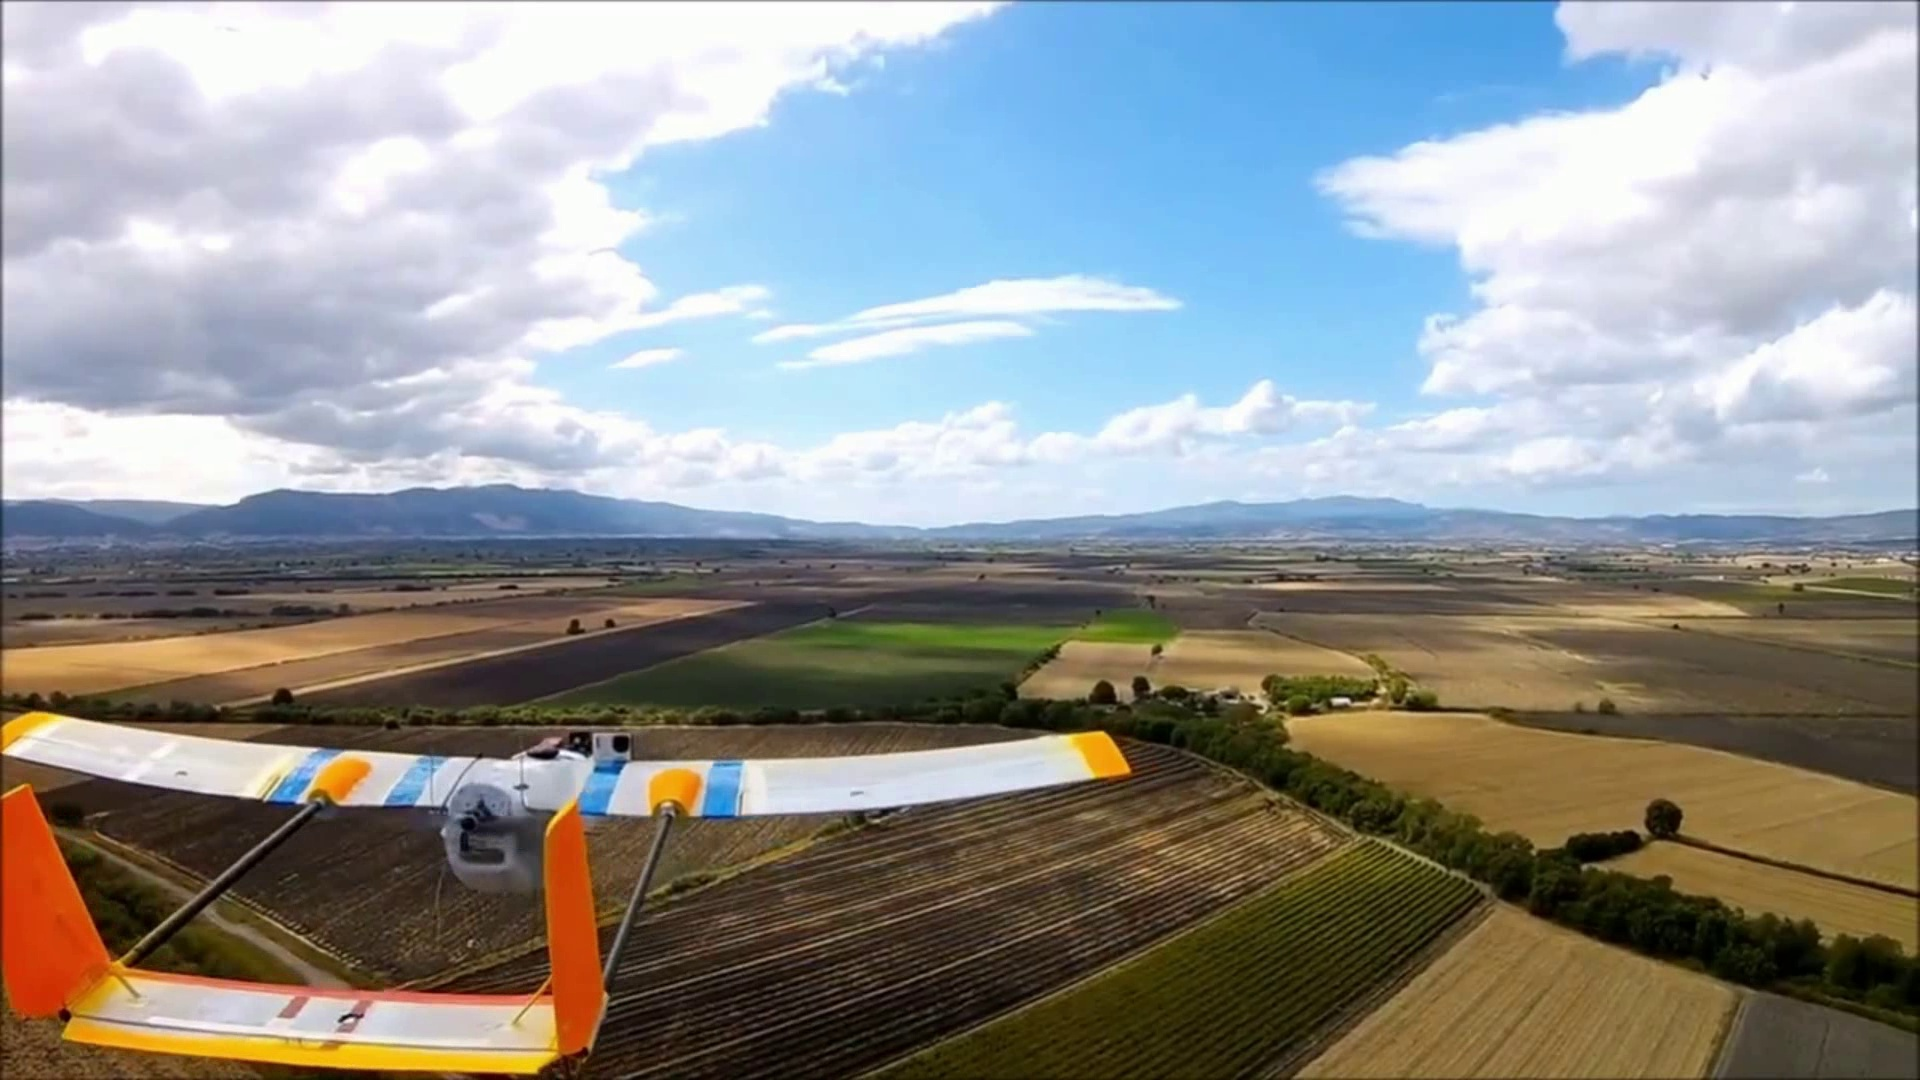airplane: (5, 717, 1138, 1069)
